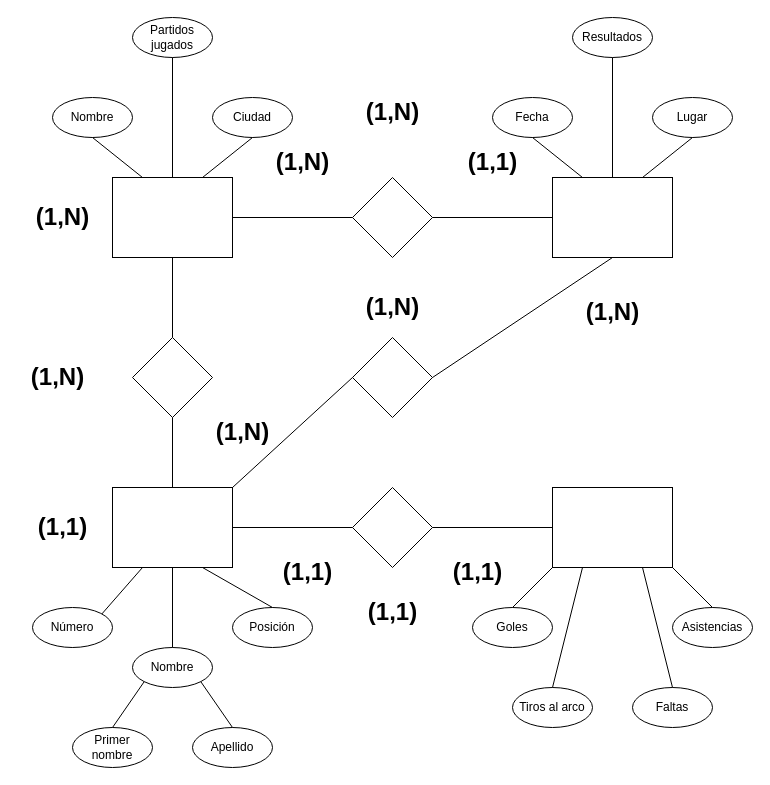
Image size: 770x785. Some labels were removed from this diagram. Here are the shapes that lost their labels. From the top down, the centre of each, then its label:
(x=172, y=217): Equipo
(x=612, y=217): Partidos
(x=172, y=527): Jugadores
(x=612, y=527): Estadisticas
